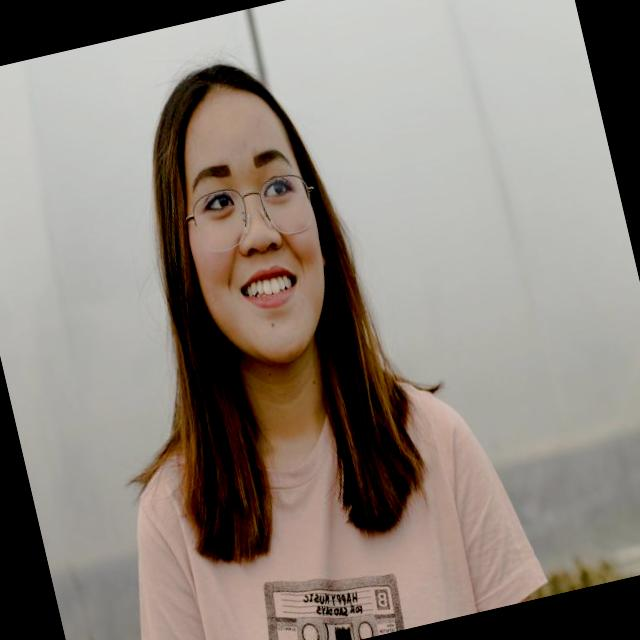person: (9, 14, 552, 640)
